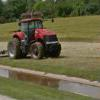Tractor: (6, 10, 62, 62)
